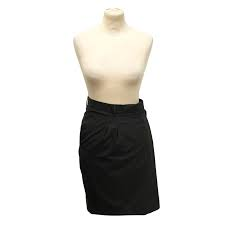F_tailored skirt: (74, 94, 165, 217)
